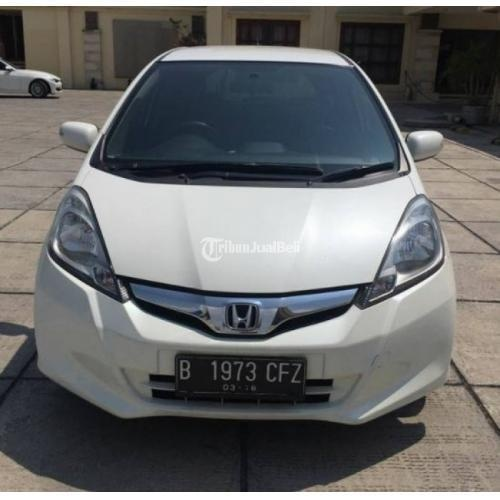plate: (175, 354, 307, 393)
